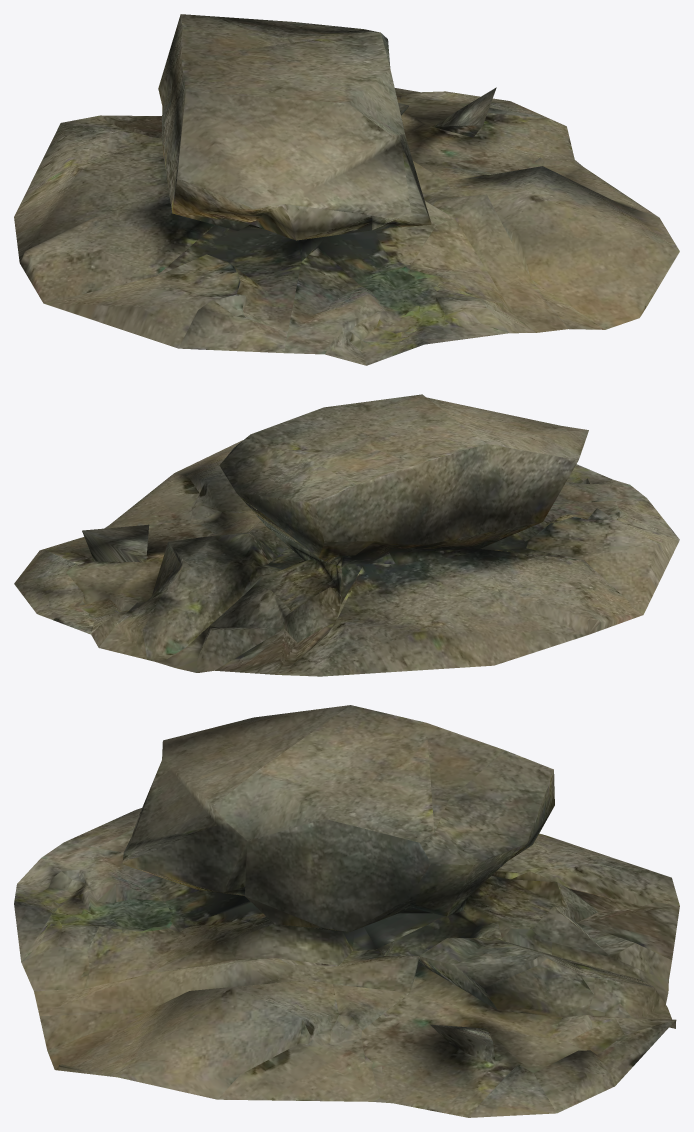
File: coast_rocks_05_lod1.glb
3 views of the same model, one above another, from view 1: azimuth 30°, elevation 25°; view 2: azimuth 150°, elevation 25°; view 3: azimuth 270°, elevation 25° (orthographic). The views are drawn at different scales.
Visible parts, largest first — view 1: coast_rocks_05; view 2: coast_rocks_05; view 3: coast_rocks_05.
Boxes of the visible parts, bbox=[...] form: coast_rocks_05: bbox=[14, 14, 679, 365]; coast_rocks_05: bbox=[14, 394, 679, 676]; coast_rocks_05: bbox=[14, 705, 679, 1117].
Bounding box in the file's own units: 4.02 × 1.28 × 3.74.
Materials: 1 (1 with a texture image).
